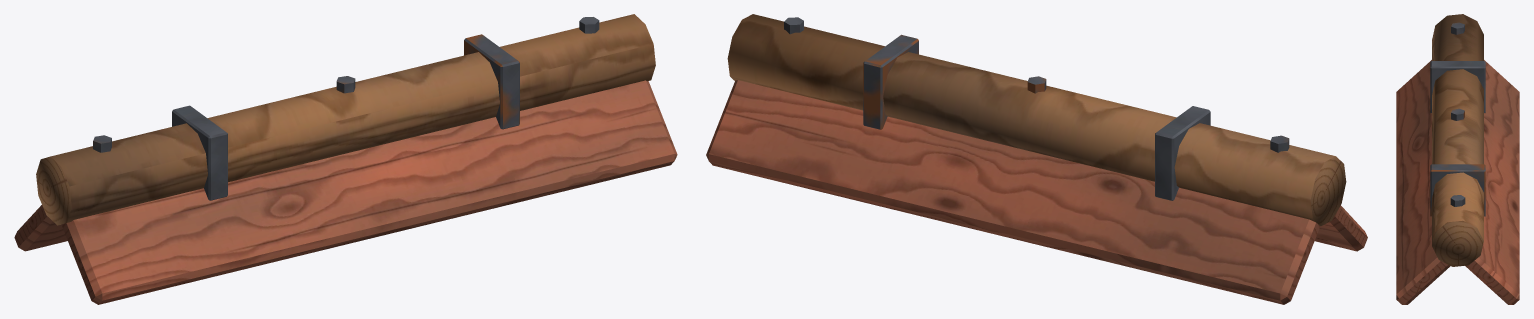
File: cati_tepesi.glb
3 renders of one model, left to right at view 1: azimuth 30°, elevation 25°; view 2: azimuth 150°, elevation 25°; view 3: azimuth 270°, elevation 25°, orthographic. The views are drawn at different scales.
Visible parts, largest first — view 1: cati_tepesi; view 2: cati_tepesi; view 3: cati_tepesi.
Boxes of the visible parts, bbox=[...] form: cati_tepesi: bbox=[14, 14, 677, 304]; cati_tepesi: bbox=[706, 14, 1367, 304]; cati_tepesi: bbox=[1396, 14, 1519, 304].
Size of the model in its own units: 3 by 0.6226 by 0.7566.
1 material, 1 textured.
